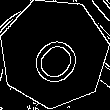O_NE: (21, 20, 87, 86)
